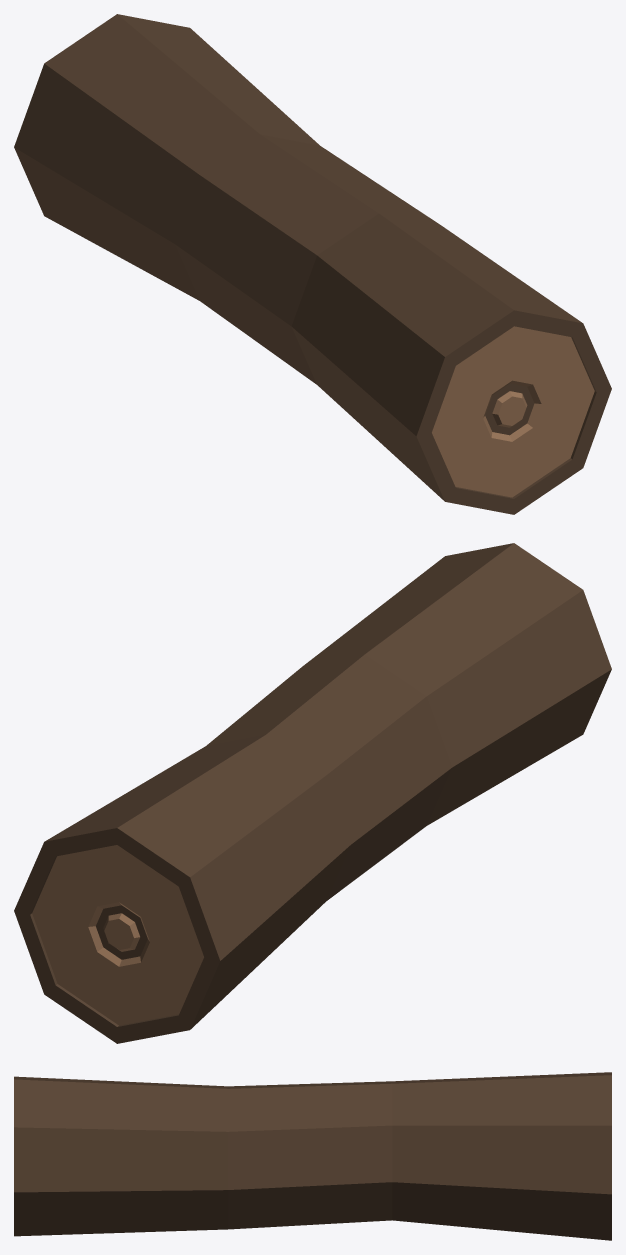
Rendered from Log.fbx.
3 renders of one model, top to bottom at view 1: azimuth 30°, elevation 25°; view 2: azimuth 150°, elevation 25°; view 3: azimuth 270°, elevation 25°, orthographic. The views are drawn at different scales.
Visible parts, largest first — view 1: Log; view 2: Log; view 3: Log.
Boxes of the visible parts, x1=… form: Log: x1=14, y1=14, x2=611, y2=514; Log: x1=14, y1=543, x2=611, y2=1043; Log: x1=14, y1=1072, x2=611, y2=1240.
Size of the model in its own units: 58.89 by 17.67 by 17.67.
